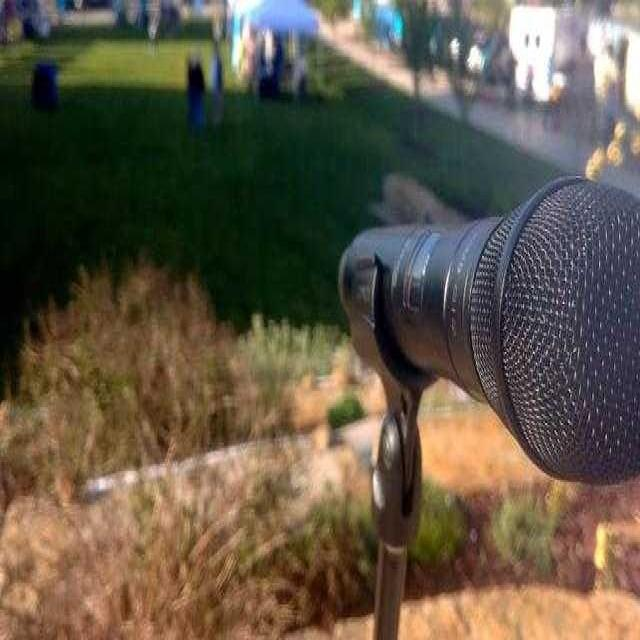microphone: (345, 175, 635, 488)
